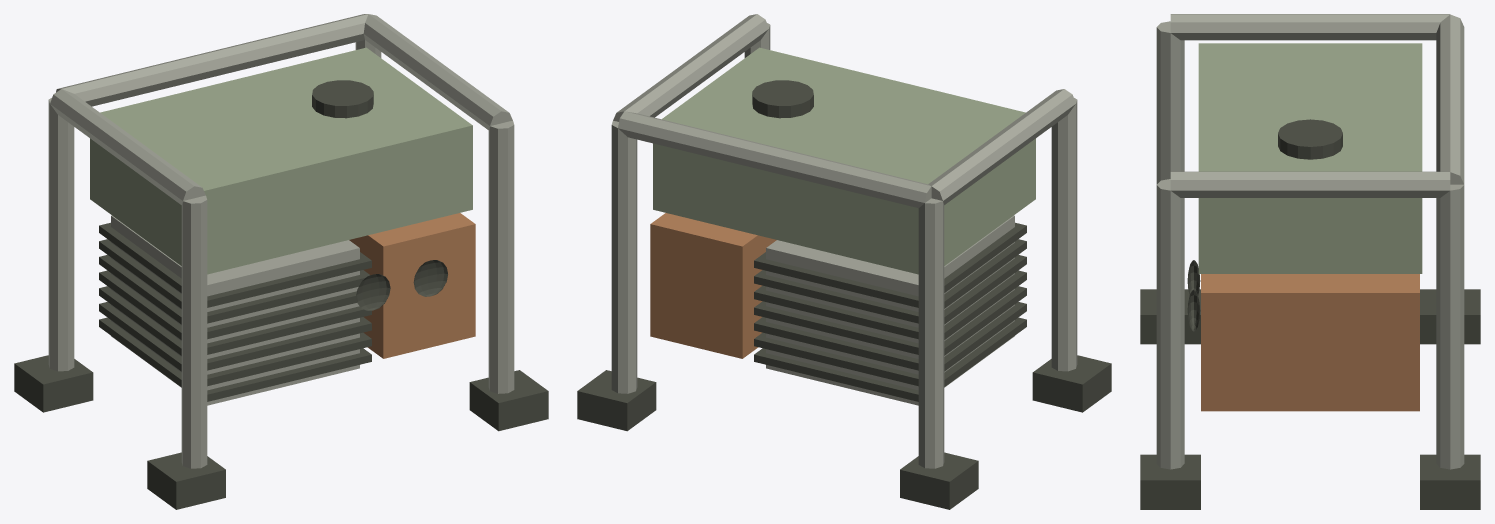
The model's file is reclamation-yard-caged-portable-generator__228.glb.
3 renders of one model, left to right at view 1: azimuth 30°, elevation 25°; view 2: azimuth 150°, elevation 25°; view 3: azimuth 270°, elevation 25°, orthographic. The views are drawn at different scales.
Parts seen in each view (by area): view 1: shell, metal, dark, accent; view 2: metal, shell, dark, accent; view 3: shell, metal, accent, dark.
Part boxes in pixels (x1,y1,x2,y2): shell: (90, 47, 472, 274); metal: (48, 14, 514, 468); dark: (14, 80, 548, 509); accent: (349, 213, 475, 358); metal: (611, 14, 1077, 468); shell: (653, 47, 1035, 274); dark: (577, 80, 1111, 509); accent: (650, 213, 776, 358); shell: (1198, 43, 1422, 273); metal: (1156, 14, 1464, 469); accent: (1201, 274, 1419, 411); dark: (1140, 119, 1480, 509).
Size of the model in its own units: 0.97 by 0.76 by 0.73.
